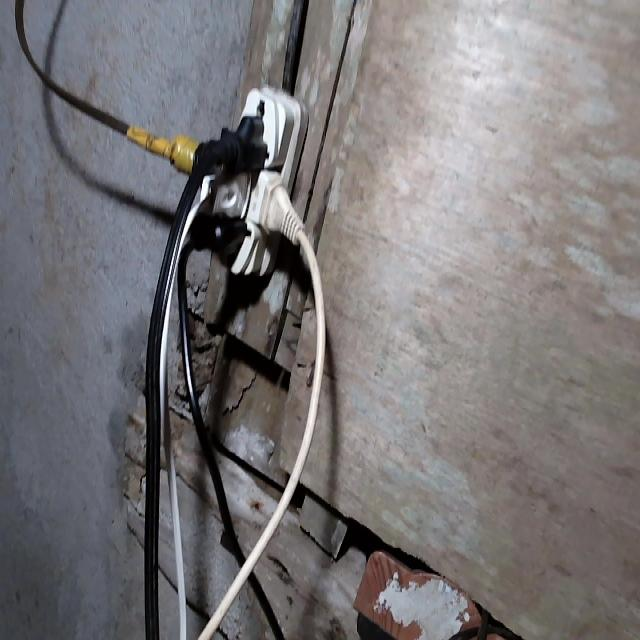-: (170, 80, 311, 277)
